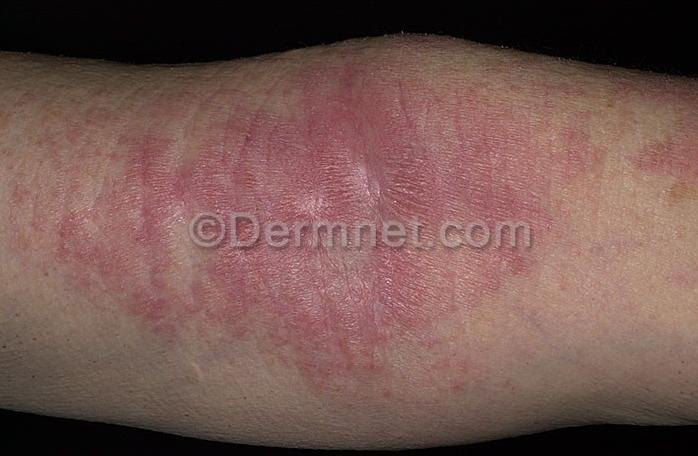eritema 1: (593, 76, 698, 182)
eritema 3: (8, 65, 555, 395)
